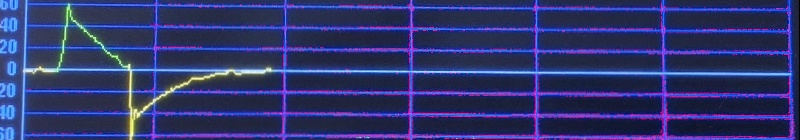normal_flow: (24, 2, 272, 140)
